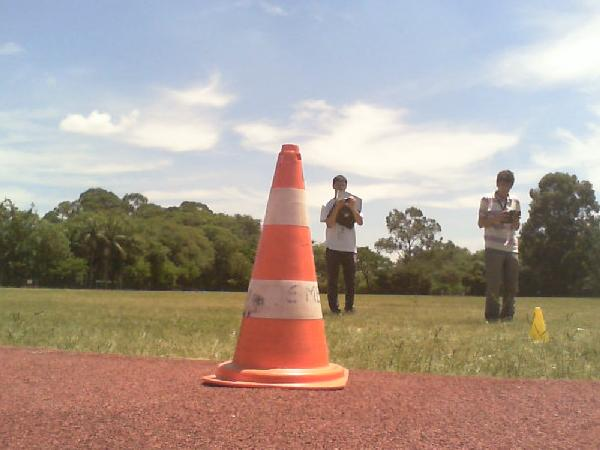0 cone: (200, 143, 348, 390), (525, 307, 551, 343)
